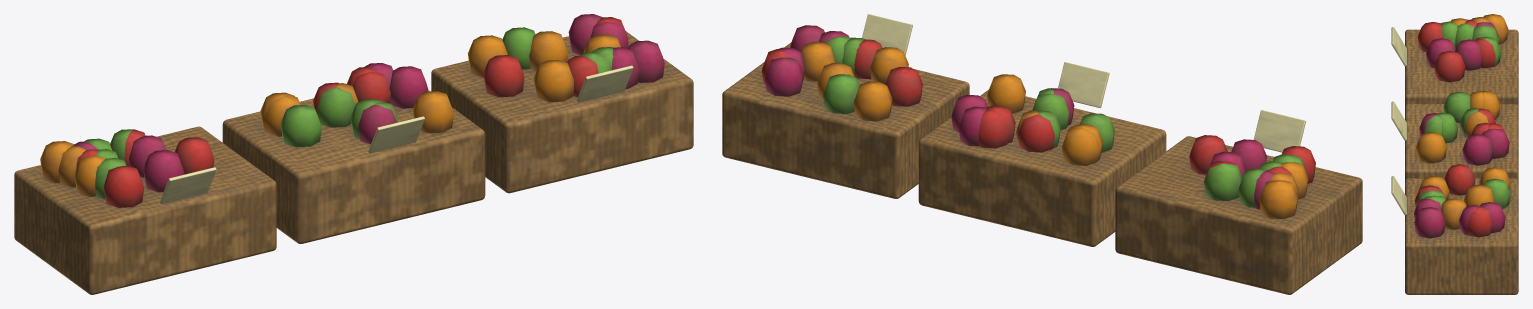
The model's file is sklep_warzywa.glb.
The picture shows the model from 3 angles, left to right: view 1: azimuth 30°, elevation 25°; view 2: azimuth 150°, elevation 25°; view 3: azimuth 270°, elevation 25°; orthographic projection. The views are drawn at different scales.
Parts seen in each view (by area): view 1: Warzywa; view 2: Warzywa; view 3: Warzywa.
Part boxes in pixels (box(x1,y1,x2,y2)): Warzywa: box(14, 14, 693, 294); Warzywa: box(722, 14, 1362, 294); Warzywa: box(1391, 14, 1518, 294).
Bounding box in the file's own units: 1.8 × 0.3053 × 0.4474.
1 material, 1 textured.
